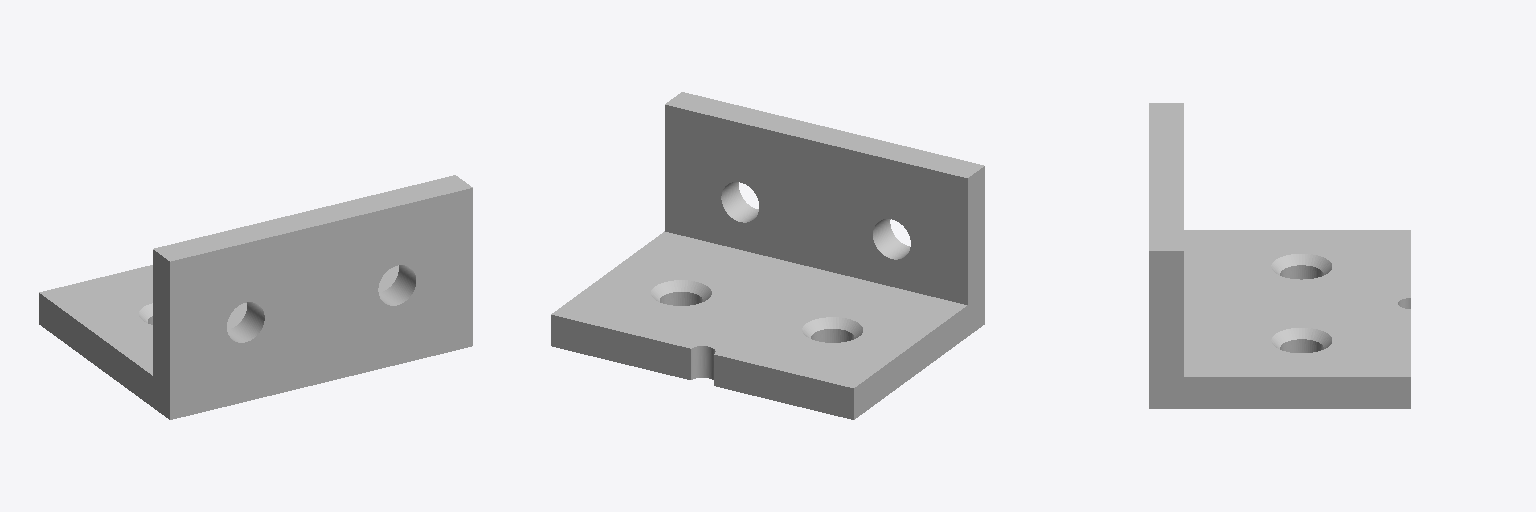
File: base_bracket_4x.obj
3 views of the same model, side by side, from view 1: azimuth 30°, elevation 25°; view 2: azimuth 150°, elevation 25°; view 3: azimuth 270°, elevation 25° (orthographic).
Visible parts, largest first — view 1: base_bracket_4x; view 2: base_bracket_4x; view 3: base_bracket_4x.
Part boxes in pixels (x1,y1,x2,y2): base_bracket_4x: (39, 175, 472, 419); base_bracket_4x: (551, 92, 984, 419); base_bracket_4x: (1149, 103, 1410, 408).
Size of the model in its own units: 40 by 20 by 30.